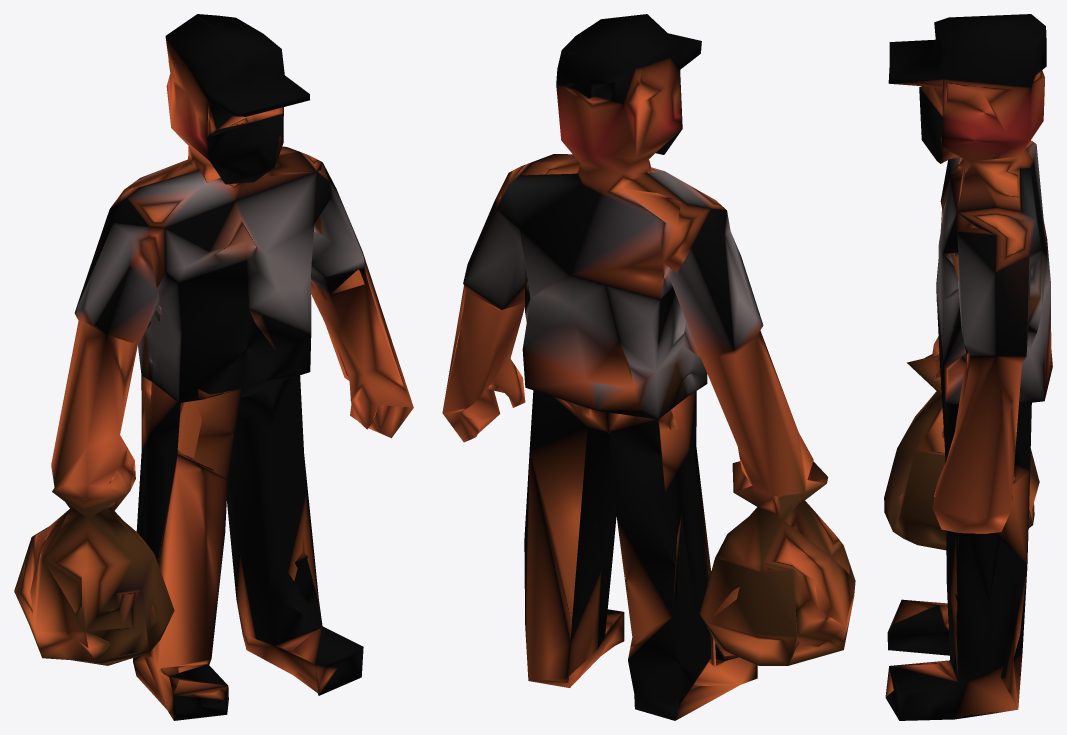
The model's file is gen3d-robber-lod1.glb.
3 renders of one model, left to right at view 1: azimuth 30°, elevation 25°; view 2: azimuth 150°, elevation 25°; view 3: azimuth 270°, elevation 25°, orthographic. The views are drawn at different scales.
Visible parts, largest first — view 1: part_0; view 2: part_0; view 3: part_0.
Boxes of the visible parts, <box> form: part_0: <box>14,14,413,720</box>; part_0: <box>442,14,855,720</box>; part_0: <box>884,14,1052,720</box>.
Bounding box in the file's own units: 0.6103 × 0.9938 × 0.2324.
